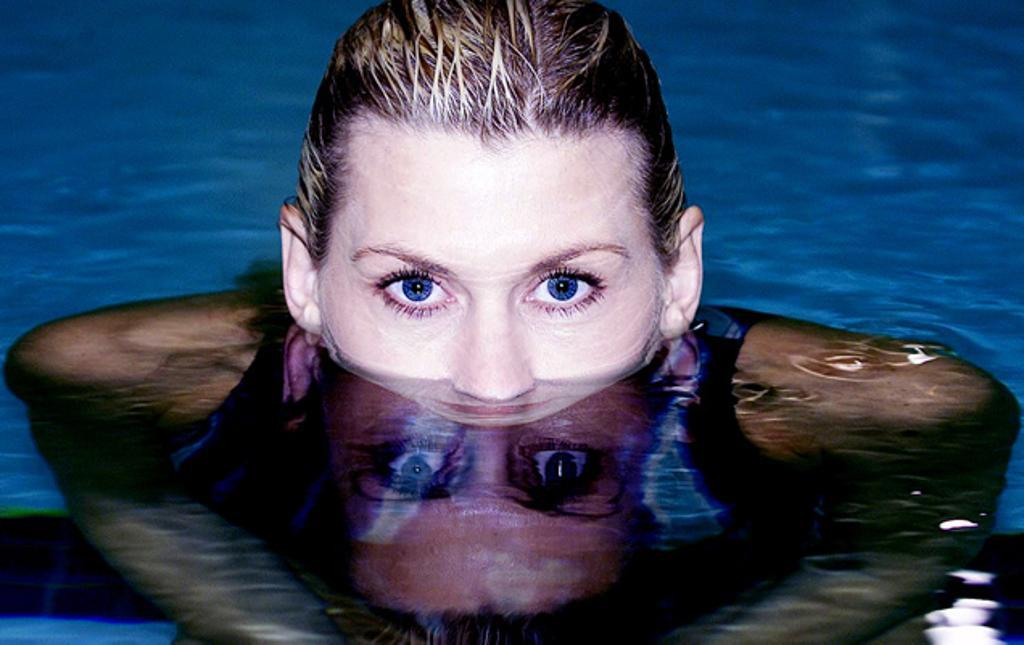face: (329, 127, 667, 509)
